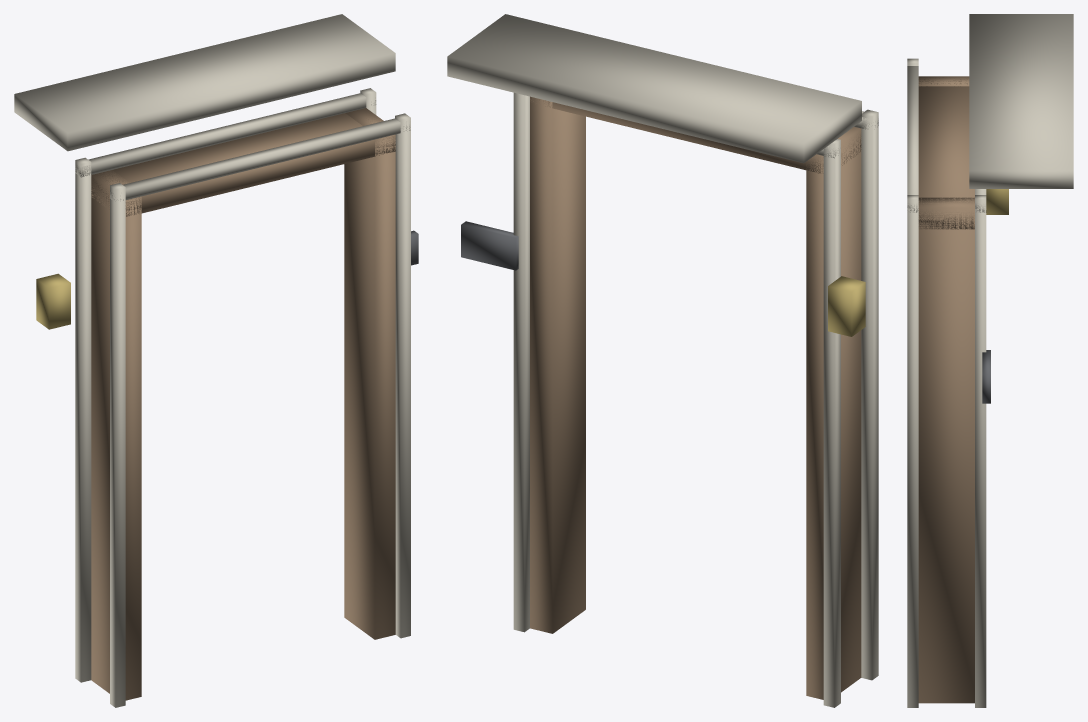
Rendered from doorway_motel_w106_h210_d24.glb.
3 renders of one model, left to right at view 1: azimuth 30°, elevation 25°; view 2: azimuth 150°, elevation 25°; view 3: azimuth 270°, elevation 25°, orthographic. The views are drawn at different scales.
Parts seen in each view (by area): view 1: world; view 2: world; view 3: world.
Part boxes in pixels (x1,y1,x2,y2): world: (14,14,418,707); world: (447,14,878,707); world: (907,14,1073,707).
Size of the model in its own units: 1.68 by 2.42 by 0.6689.
